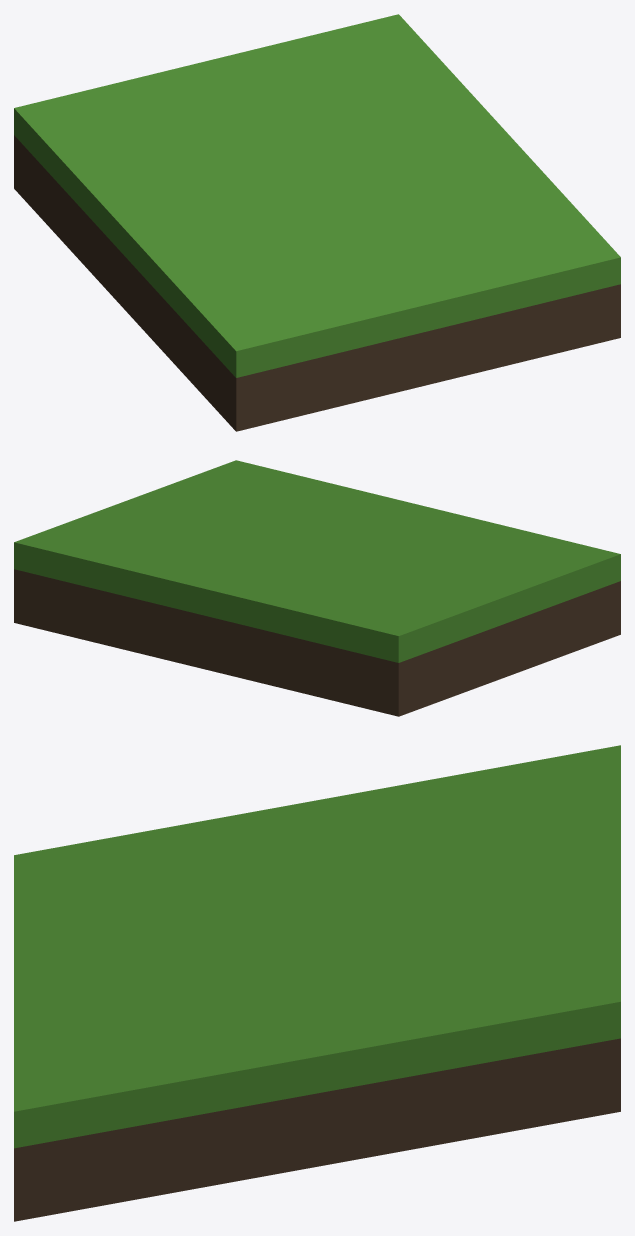
Rendered from tiles_tile-hill.fbx.
3 views of the same model, one above another, from view 1: azimuth 30°, elevation 25°; view 2: azimuth 150°, elevation 25°; view 3: azimuth 270°, elevation 25° (orthographic). The views are drawn at different scales.
Parts seen in each view (by area): view 1: tiles_tile_hill; view 2: tiles_tile_hill; view 3: tiles_tile_hill.
Boxes of the visible parts, <box> form: tiles_tile_hill: <box>14,14,620,431</box>; tiles_tile_hill: <box>14,460,620,716</box>; tiles_tile_hill: <box>14,745,620,1221</box>.
Size of the model in its own units: 200 by 80 by 200.
